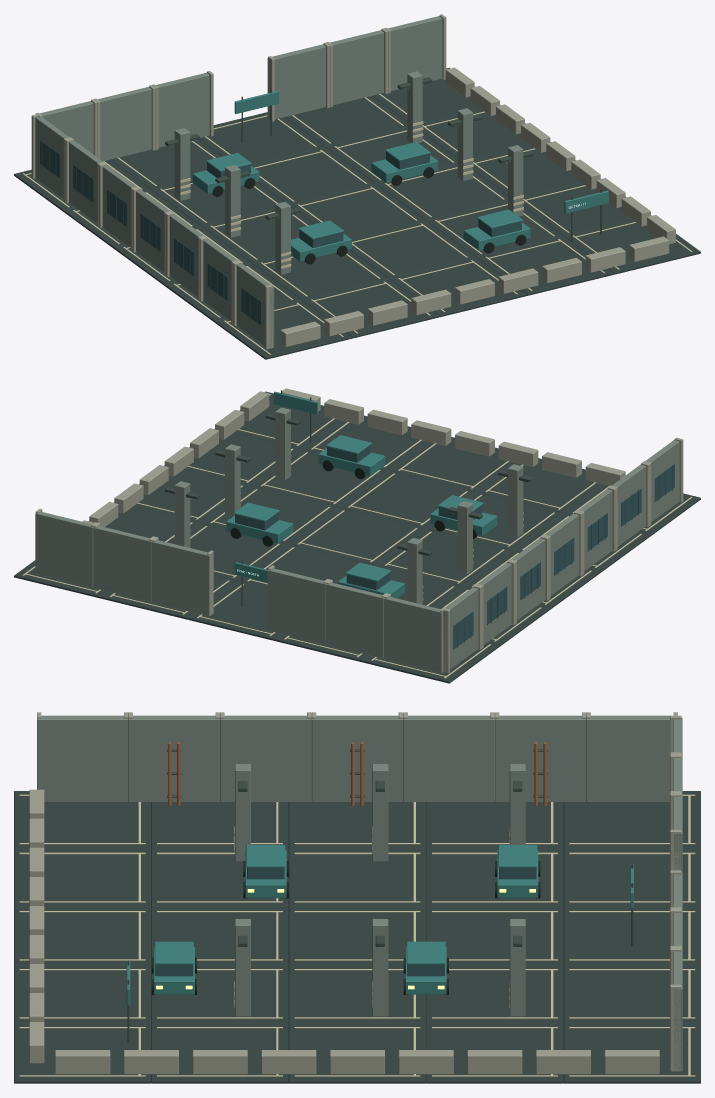
File: chapter_garage.glb
The picture shows the model from 3 angles, top to bottom: view 1: azimuth 30°, elevation 25°; view 2: azimuth 150°, elevation 25°; view 3: azimuth 270°, elevation 25°; orthographic projection. The views are drawn at different scales.
Parts seen in each view (by area): view 1: chapter_garage; view 2: chapter_garage; view 3: chapter_garage.
Boxes of the visible parts, left/top/right/bottom form: chapter_garage: left=14, top=14, right=700, bottom=359; chapter_garage: left=14, top=388, right=700, bottom=683; chapter_garage: left=14, top=712, right=700, bottom=1083.
Size of the model in its own units: 30 by 4.54 by 30.
